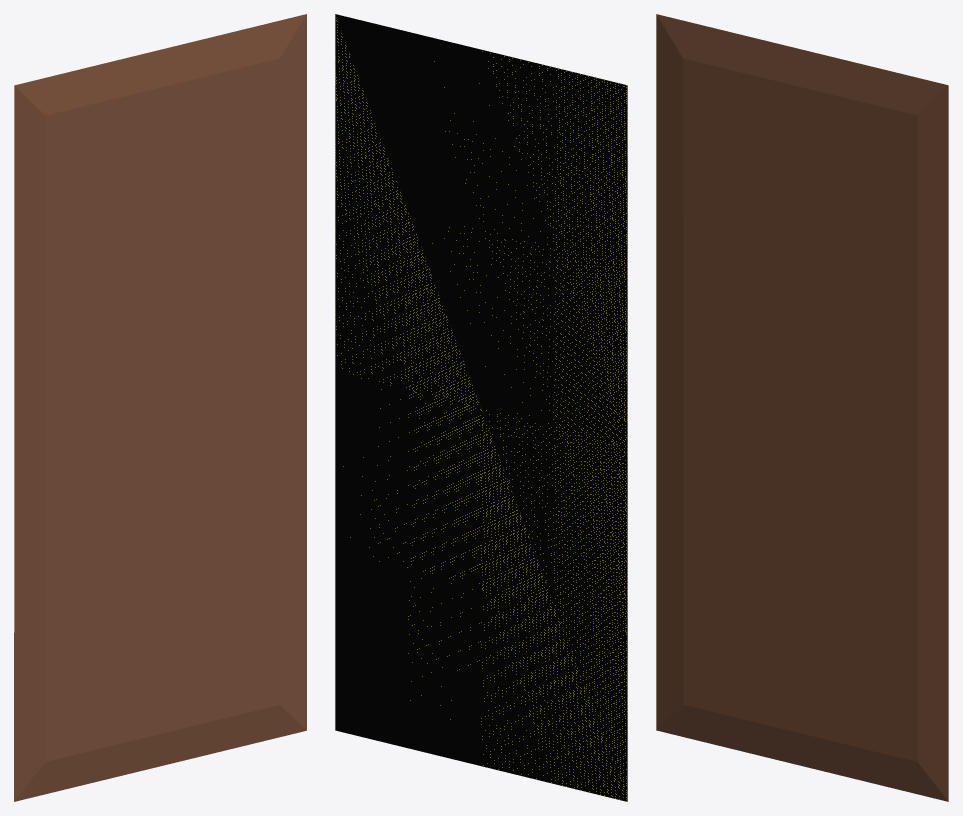
Rendered from YouToolMaintPanel.glb.
3 views of the same model, side by side, from view 1: azimuth 30°, elevation 25°; view 2: azimuth 150°, elevation 25°; view 3: azimuth 330°, elevation 25° (orthographic).
Parts seen in each view (by area): view 1: YouToolMaintPanel; view 2: YouToolMaintPanel; view 3: YouToolMaintPanel.
Part boxes in pixels (x1=…): YouToolMaintPanel: x1=14, y1=14, x2=306, y2=801; YouToolMaintPanel: x1=335, y1=14, x2=627, y2=801; YouToolMaintPanel: x1=656, y1=14, x2=948, y2=801.
Bounding box in the file's own units: 0.2245 × 0.5255 × 0.00314.
Materials: 1 (1 with a texture image).
